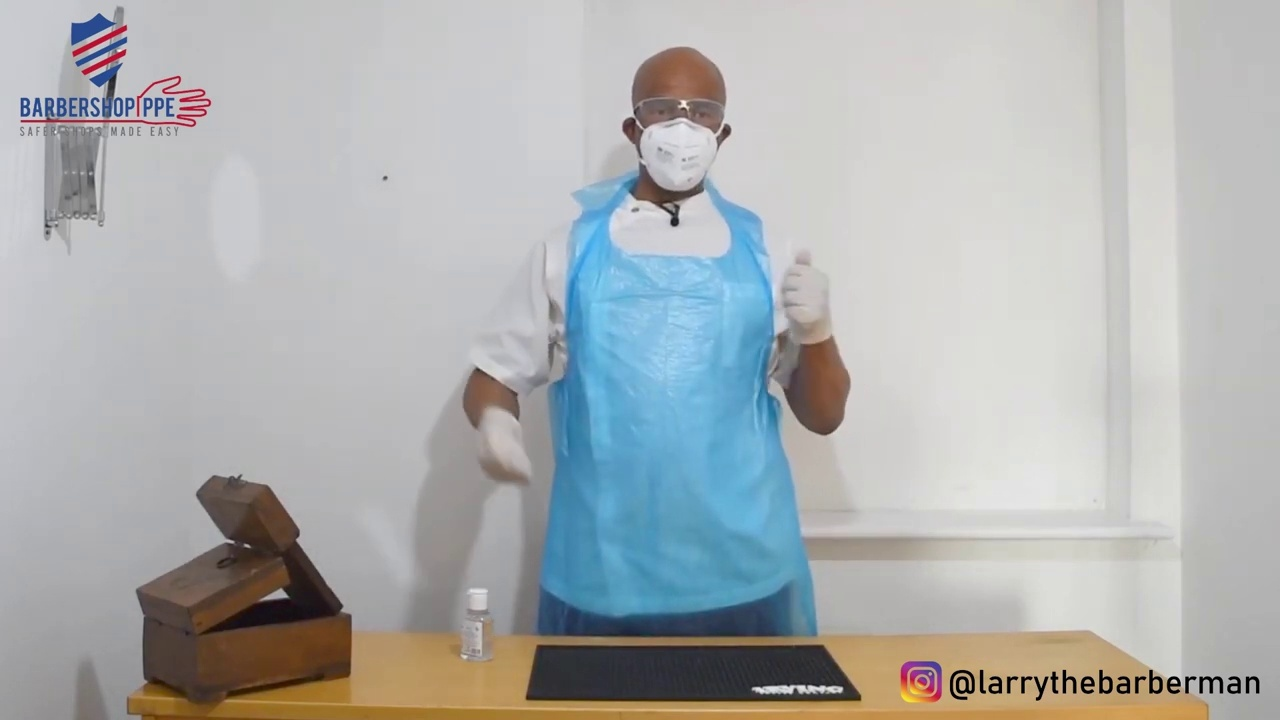Apron: (521, 165, 828, 649)
Glove: (748, 242, 867, 367), (449, 383, 555, 502)
Mask: (608, 112, 748, 204)
No_Hairnet: (625, 36, 739, 125)
